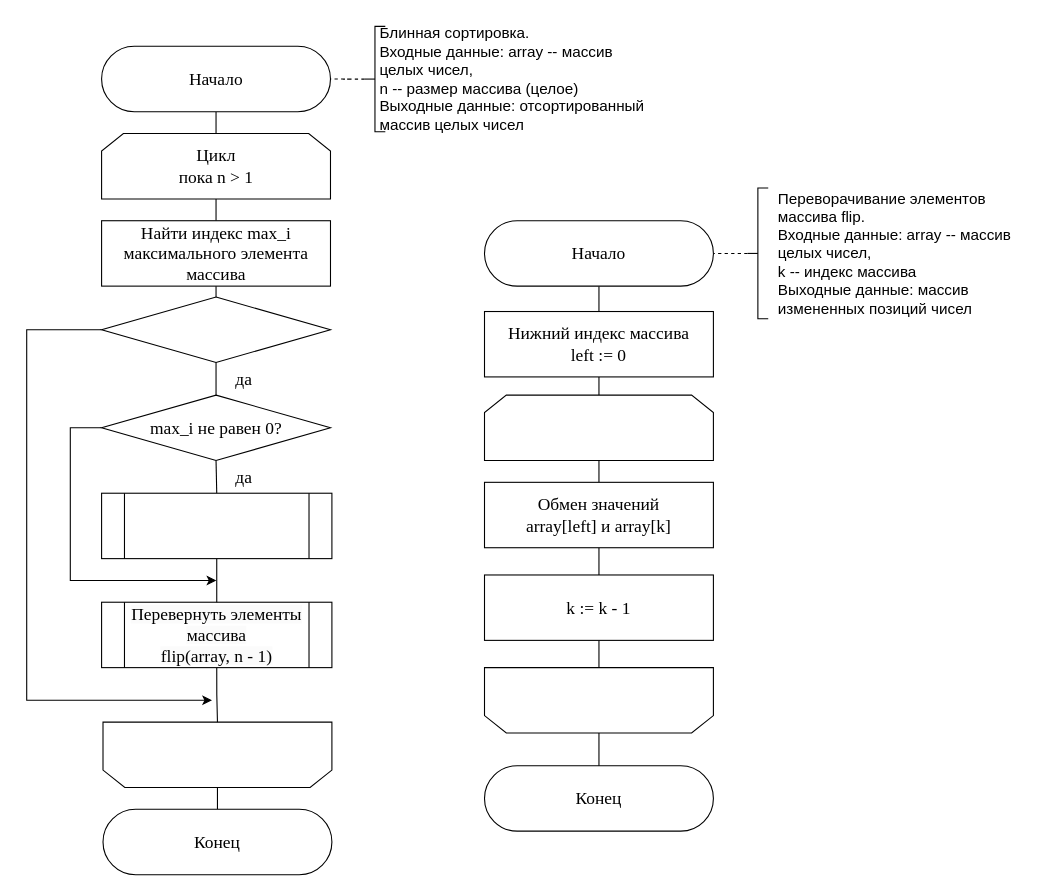
Image size: 1044x894. Some labels were removed from this diagram. The shapes that lost their labels are listed below. From the top down, each one's centre as x and y in pixels, then its label:
At point (215, 329): "max_i не равен n - 1?".
At point (598, 427): "Цикл пока left < k".
At point (216, 525): "Перевернуть элементы массива flip(array, max_i)".
At point (598, 700): "left := left + 1".
At point (217, 754): "n := n - 1".
